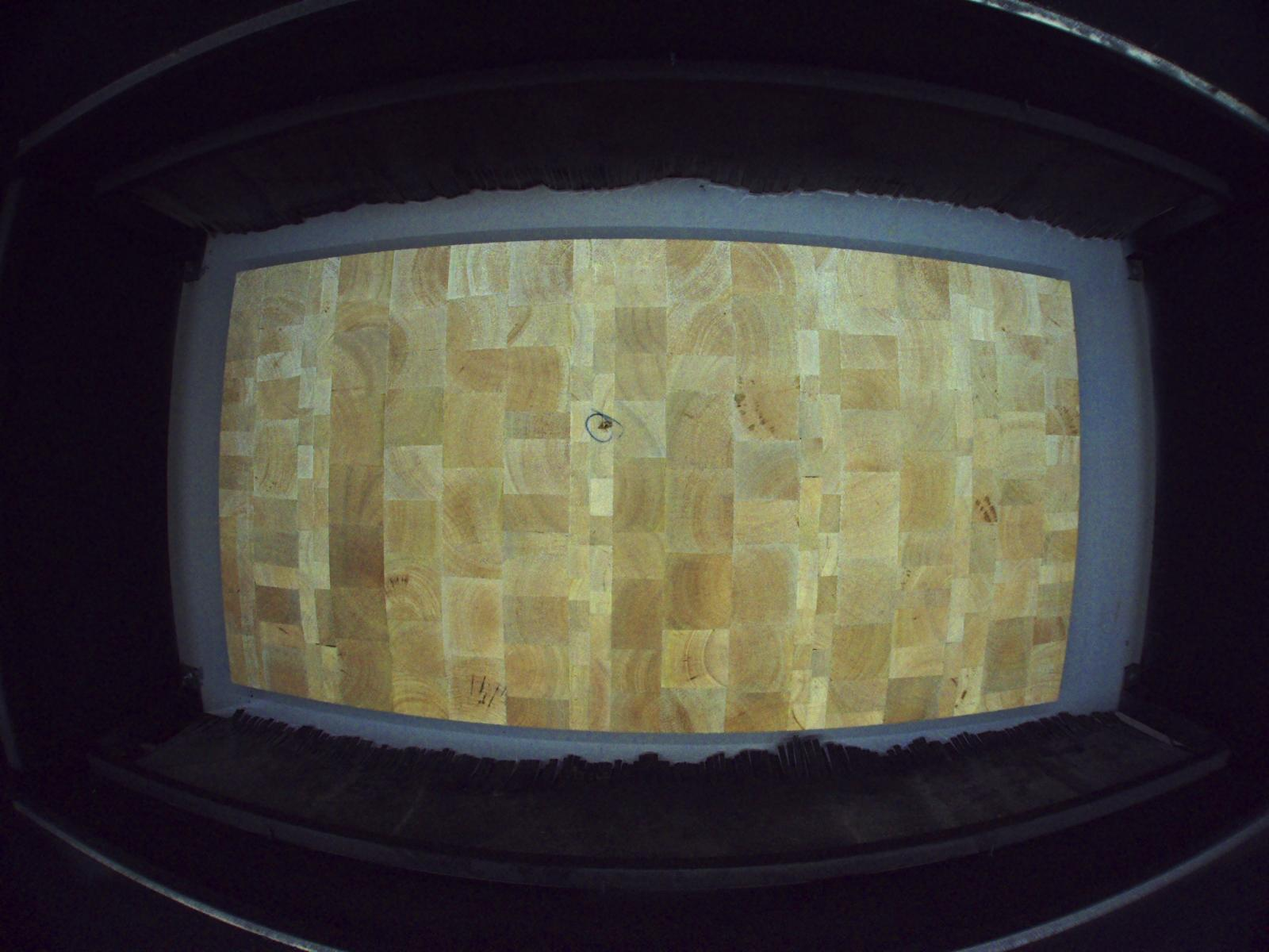nudillo: (597, 418, 614, 432)
